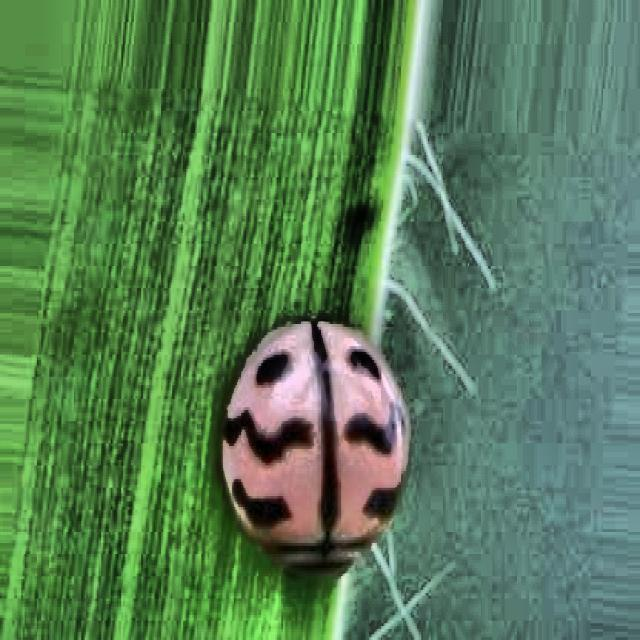Asian-Lady-beetle: (210, 288, 418, 608)
